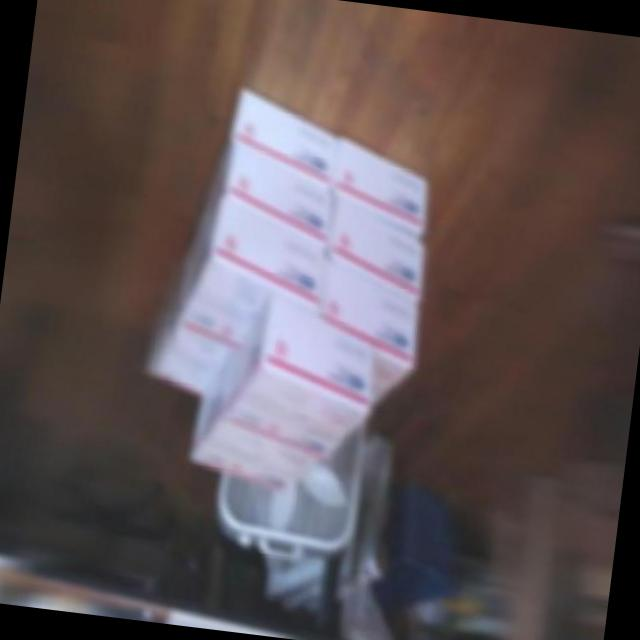box: (138, 86, 448, 500)
